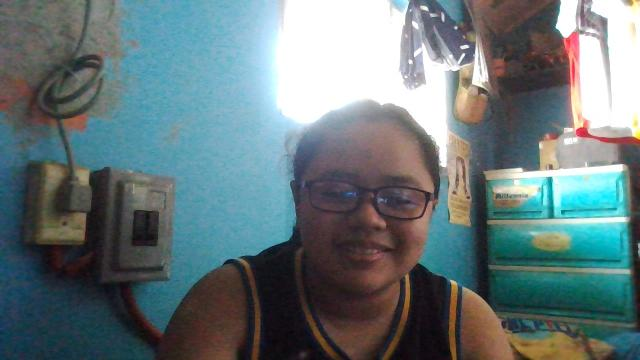senang: (300, 113, 443, 294)
